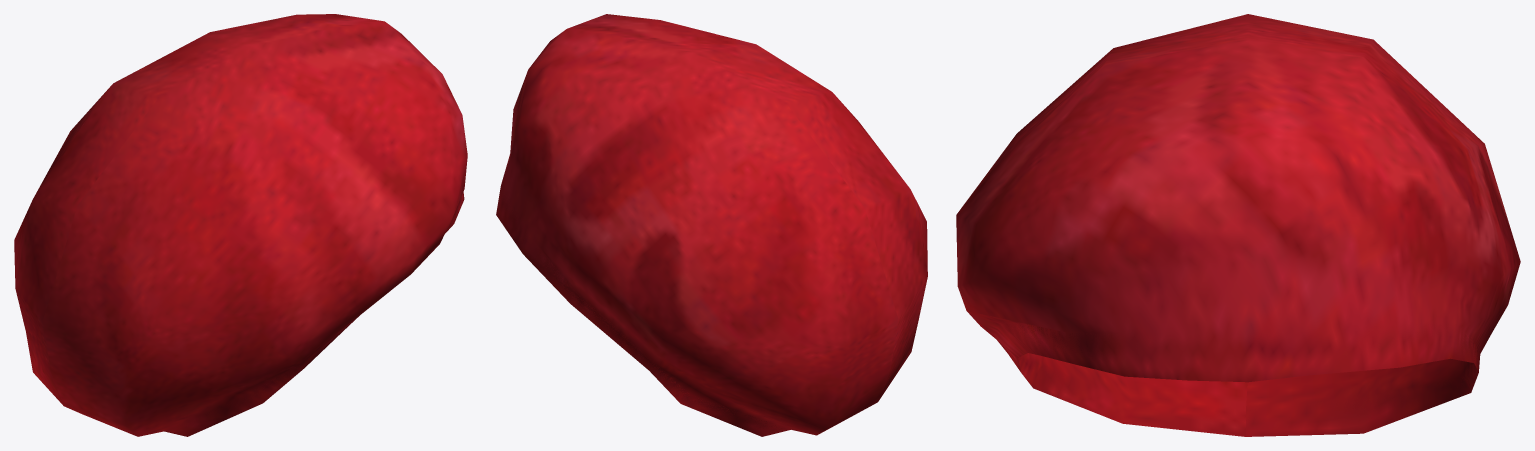
The model's file is hat_0450051.FBX.
3 views of the same model, side by side, from view 1: azimuth 30°, elevation 25°; view 2: azimuth 150°, elevation 25°; view 3: azimuth 270°, elevation 25° (orthographic). The views are drawn at different scales.
Visible parts, largest first — view 1: hat_0450051; view 2: hat_0450051; view 3: hat_0450051.
Boxes of the visible parts, box(x1,y1,x2,y2) form: hat_0450051: box(14, 14, 467, 436); hat_0450051: box(496, 14, 927, 436); hat_0450051: box(956, 14, 1520, 436).
Bounding box in the file's own units: 26.62 × 22.52 × 23.94.
